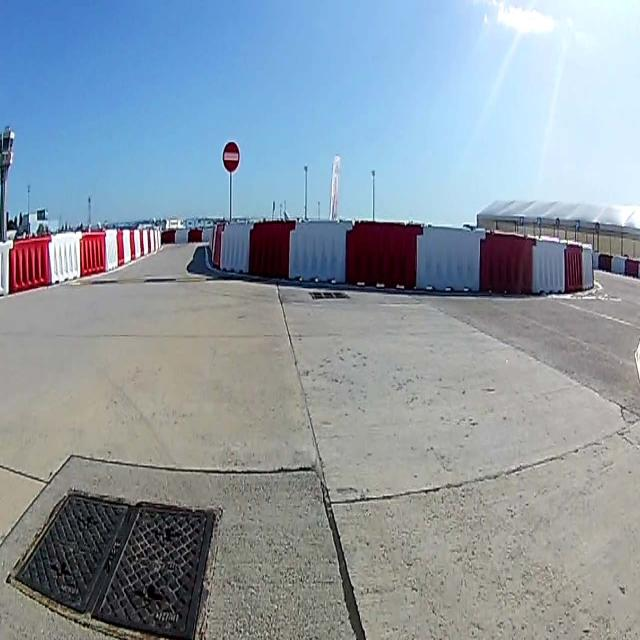girisyok: (222, 140, 240, 172)
